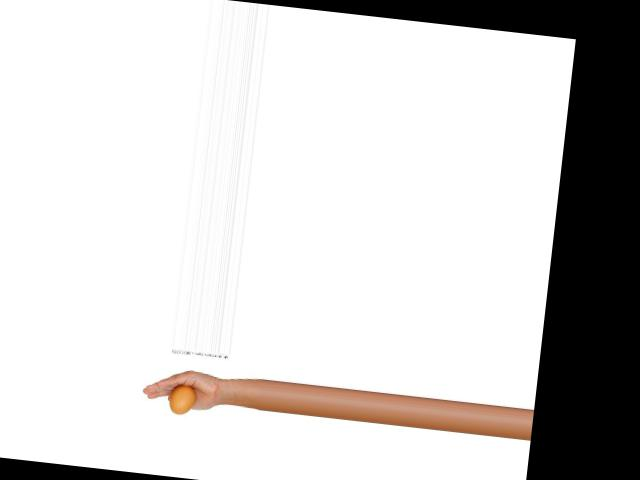egg: (167, 382, 196, 416)
